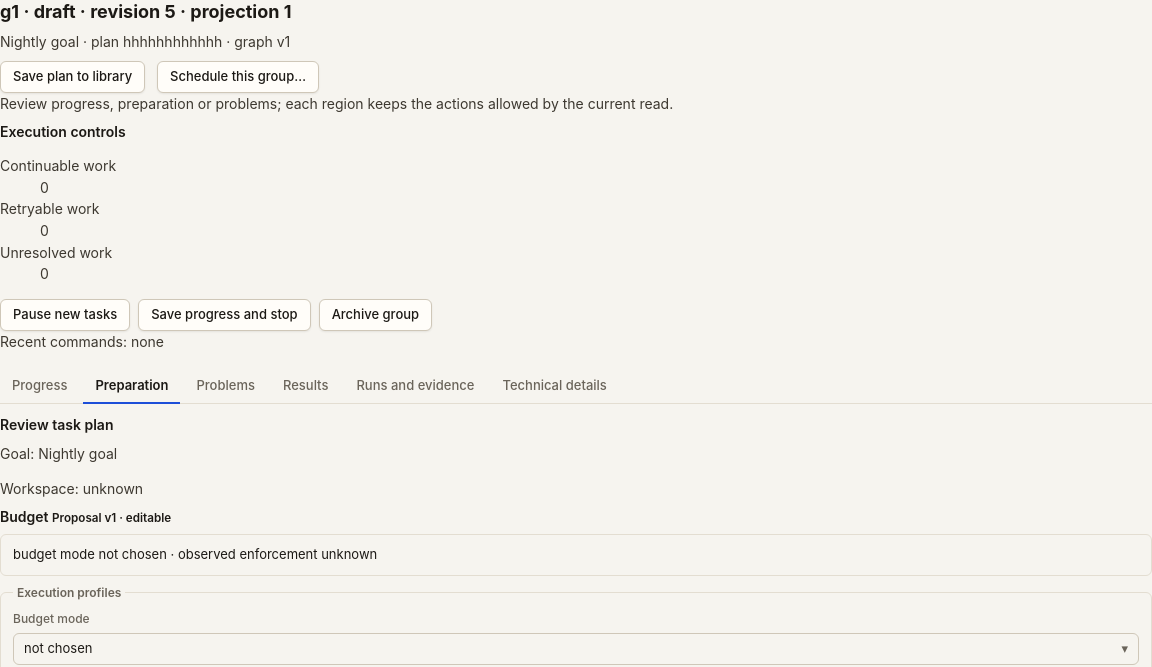
Test: a scheduled group's page (spec §13.3, C13) › M-C13c auto-with-delivery: the group dialog's confirm mode names the group's delivery
The width and height of the screenshot is (1152, 667).
Click the button "Schedule this group…" at (238, 77), box [157,61,319,93]
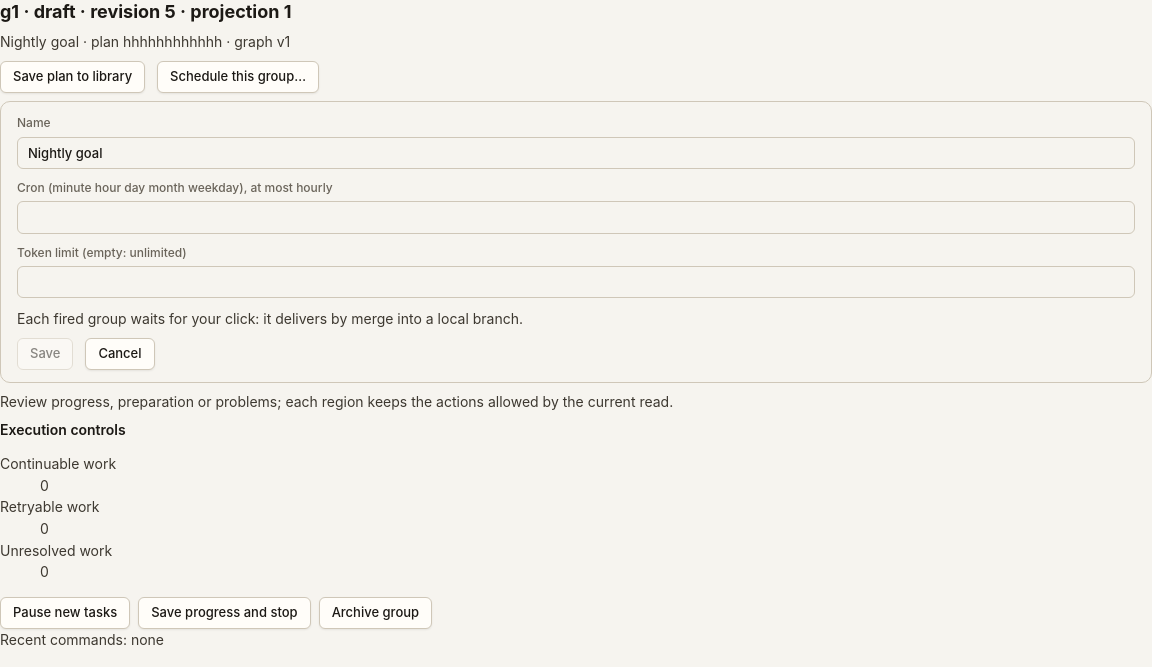
Expected: the text with test id "group-schedule-mode" shows "local", [17,310,523,327]
